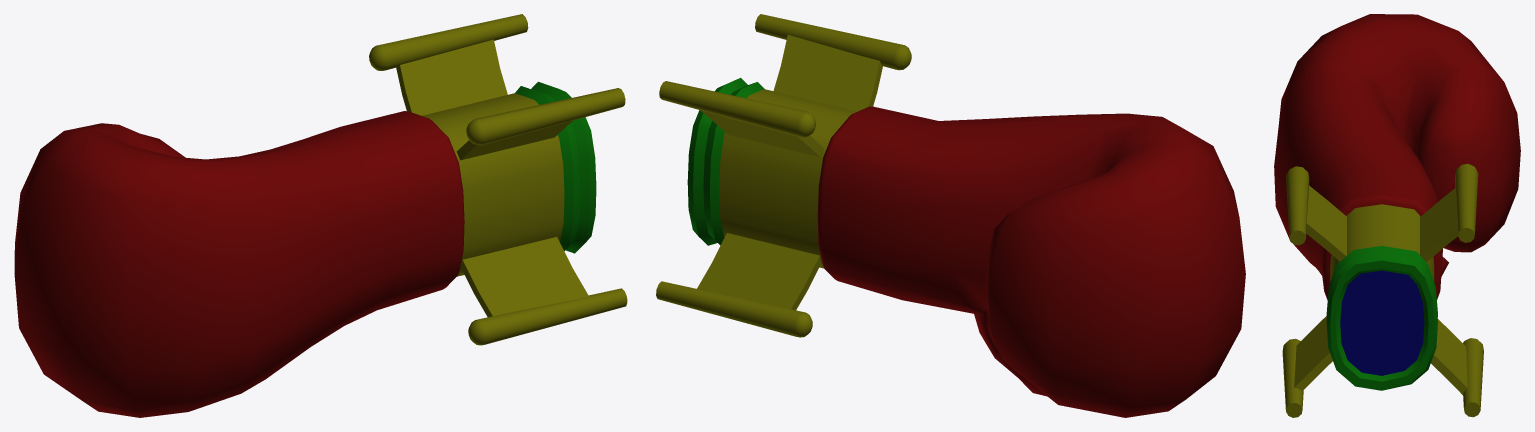
Rendered from SM_glove.glb.
3 views of the same model, side by side, from view 1: azimuth 30°, elevation 25°; view 2: azimuth 150°, elevation 25°; view 3: azimuth 270°, elevation 25° (orthographic). The views are drawn at different scales.
Parts seen in each view (by area): view 1: polySurface1; view 2: polySurface1; view 3: polySurface1.
Part boxes in pixels (x1,y1,x2,y2): polySurface1: (14, 14, 627, 417); polySurface1: (656, 14, 1245, 417); polySurface1: (1274, 14, 1520, 417).
Bounding box in the file's own units: 272 × 131 × 126.
